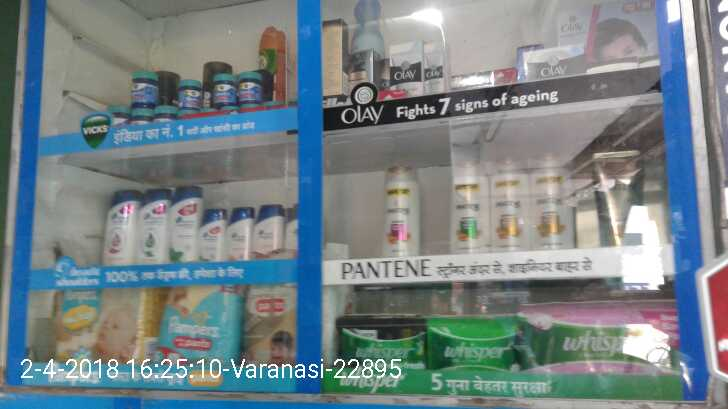vicks: (104, 69, 268, 126)
